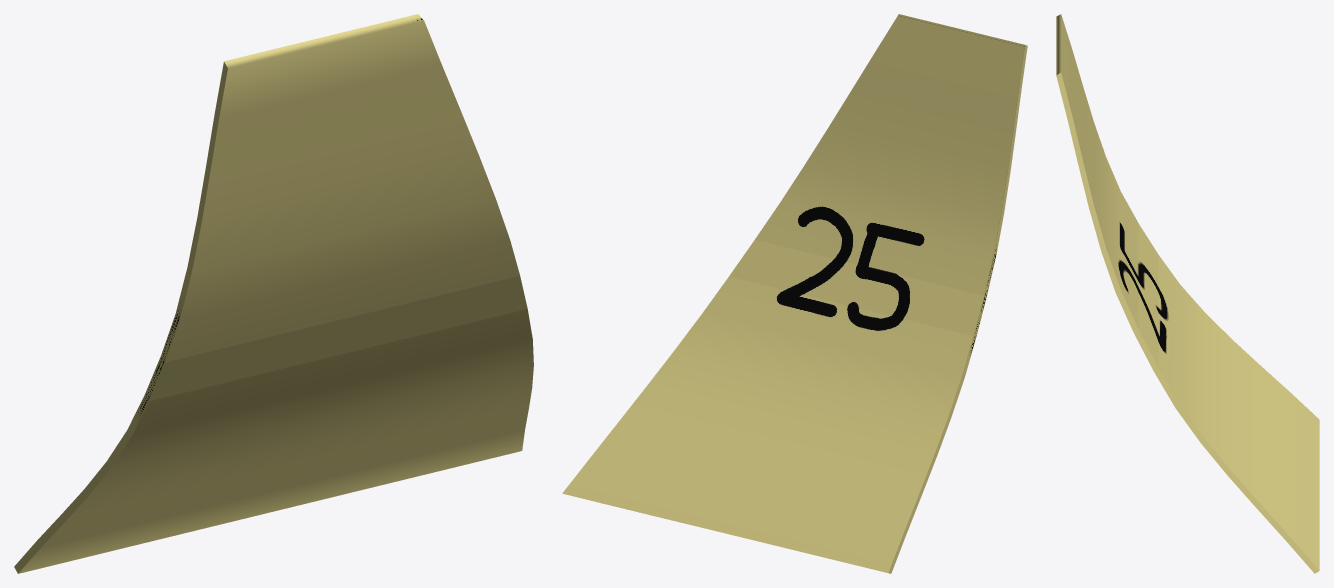
The model's file is Clue Paper 2.fbx.
3 views of the same model, side by side, from view 1: azimuth 30°, elevation 25°; view 2: azimuth 150°, elevation 25°; view 3: azimuth 270°, elevation 25° (orthographic). The views are drawn at different scales.
Visible parts, largest first — view 1: Cube; view 2: Cube; view 3: Cube.
Boxes of the visible parts, left/top/right/bottom form: Cube: left=14, top=14, right=533, bottom=573; Cube: left=562, top=14, right=1027, bottom=573; Cube: left=1056, top=14, right=1319, bottom=573.
Size of the model in its own units: 139 by 174 by 102.
